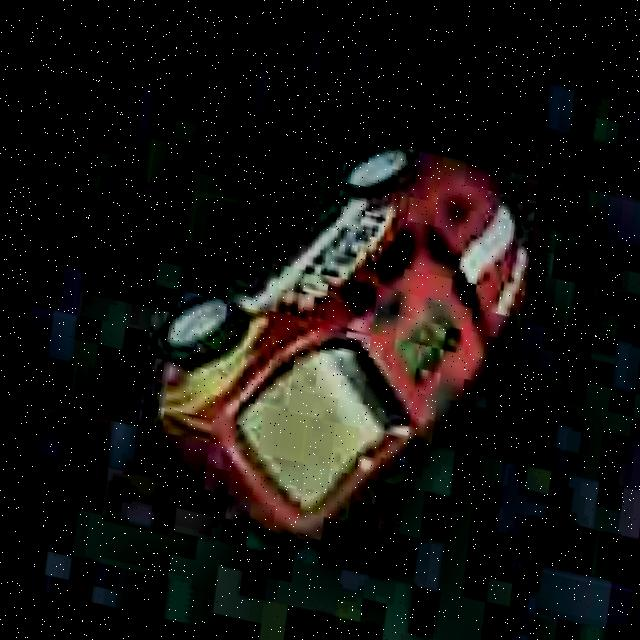car: (105, 87, 568, 588)
